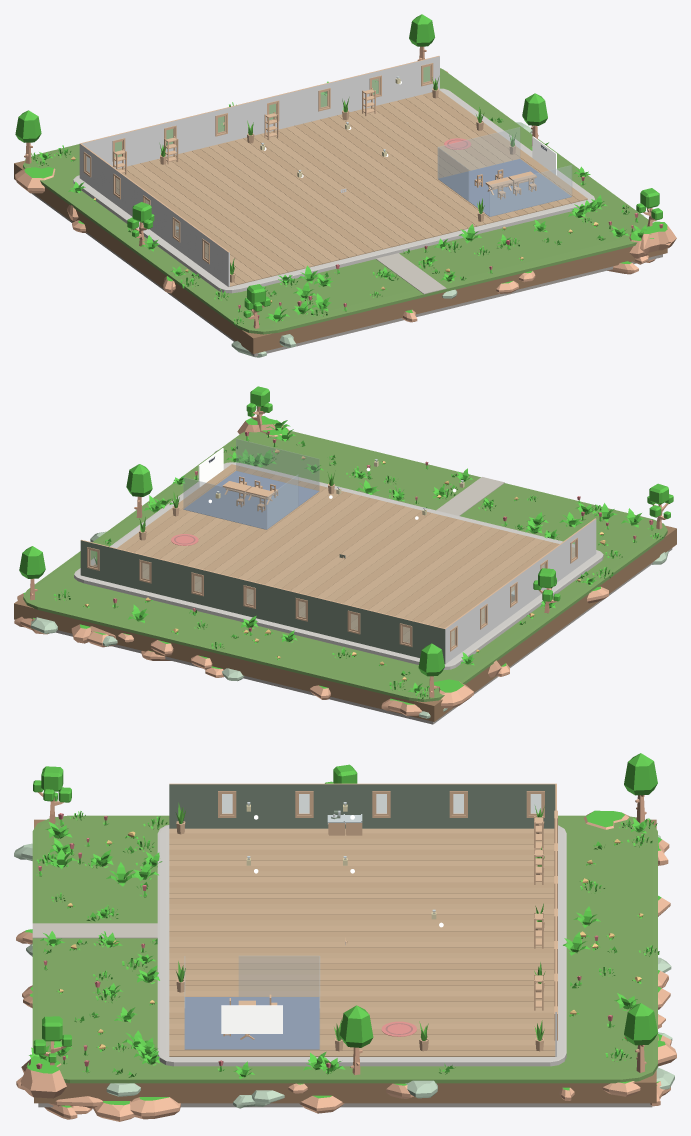
Rendered from office.glb.
The picture shows the model from 3 angles, top to bottom: view 1: azimuth 30°, elevation 25°; view 2: azimuth 150°, elevation 25°; view 3: azimuth 270°, elevation 25°; orthographic projection. The views are drawn at different scales.
Visible parts, largest first — view 1: box, box.001, slab, flat-carpet, glass, glass.001, box.002, flat-floor.016, flat-floor.007, flat-floor.018, flat-floor.006, flat-floor.012 (+61 smaller); view 2: box, box.001, slab, flat-carpet, glass, glass.001, box.002, flat-floor.018, flat-floor.006, flat-floor.012, flat-floor.024, flat-path (+62 smaller); view 3: box, box.001, slab, flat-carpet, glass.002, flat-floor.011, flat-floor.002, flat-floor.018, flat-floor.027, flat-floor.012, flat-floor.024, flat-floor.013 (+58 smaller).
Boxes of the visible parts, x1,y1,x2,y2 form: box: [23, 66, 648, 334]; box.001: [14, 160, 667, 353]; slab: [73, 88, 595, 293]; flat-carpet: [438, 159, 571, 216]; glass: [490, 165, 571, 216]; glass.001: [438, 127, 519, 178]; box.002: [31, 193, 662, 356]; flat-floor.016: [217, 142, 373, 253]; flat-floor.007: [140, 161, 296, 272]; flat-floor.018: [235, 138, 391, 249]; flat-floor.006: [132, 163, 288, 274]; flat-floor.012: [183, 151, 339, 261]; box: [23, 430, 667, 701]; box.001: [14, 525, 676, 721]; slab: [74, 462, 603, 669]; flat-carpet: [183, 471, 319, 529]; glass: [236, 439, 319, 490]; glass.001: [183, 477, 266, 529]; box.002: [55, 548, 672, 724]; flat-floor.018: [299, 513, 439, 616]; flat-floor.006: [403, 538, 543, 641]; flat-floor.012: [351, 525, 491, 628]; flat-floor.024: [247, 500, 387, 603]; flat-path: [436, 477, 504, 515]; box: [32, 815, 657, 1083]; box.001: [34, 819, 656, 1103]; slab: [157, 825, 566, 1066]; flat-carpet: [184, 997, 319, 1049]; glass.002: [239, 956, 319, 996]; flat-floor.011: [169, 887, 554, 893]; flat-floor.002: [169, 838, 554, 844]; flat-floor.018: [169, 925, 554, 931]; flat-floor.027: [169, 974, 554, 980]; flat-floor.012: [169, 893, 554, 898]; flat-floor.024: [169, 958, 554, 963]; flat-floor.013: [169, 898, 554, 903].
Bounding box in the file's own units: 79.69 × 26.68 × 79.44.
